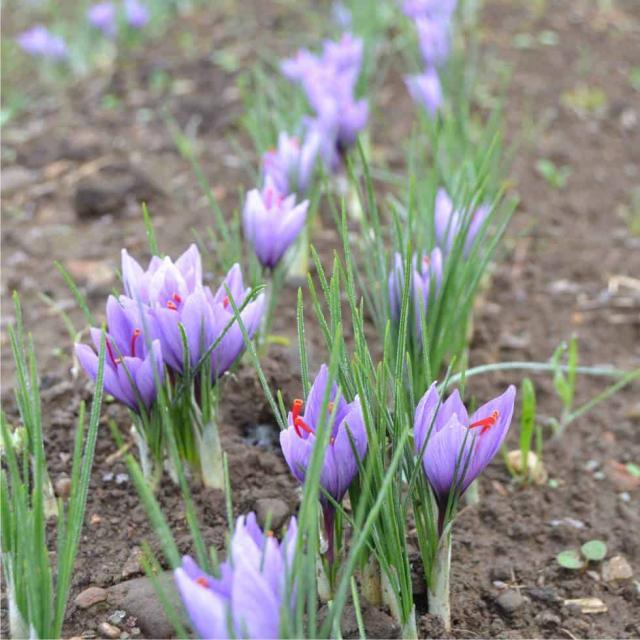saffron open: (280, 365, 367, 565), (415, 384, 516, 530), (243, 180, 310, 269)
